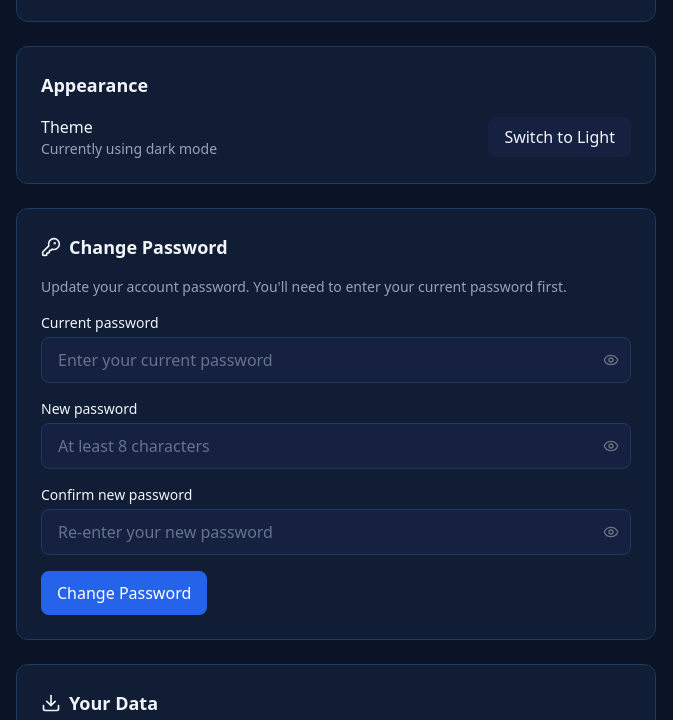
SettingsPage - change password submission › POSTs to /api/auth/change-password and shows the success banner on 200
(page scrolled)
Type "OldPass2025!" into the password field labelled "Current password" at (336, 360), box [41, 337, 631, 383]
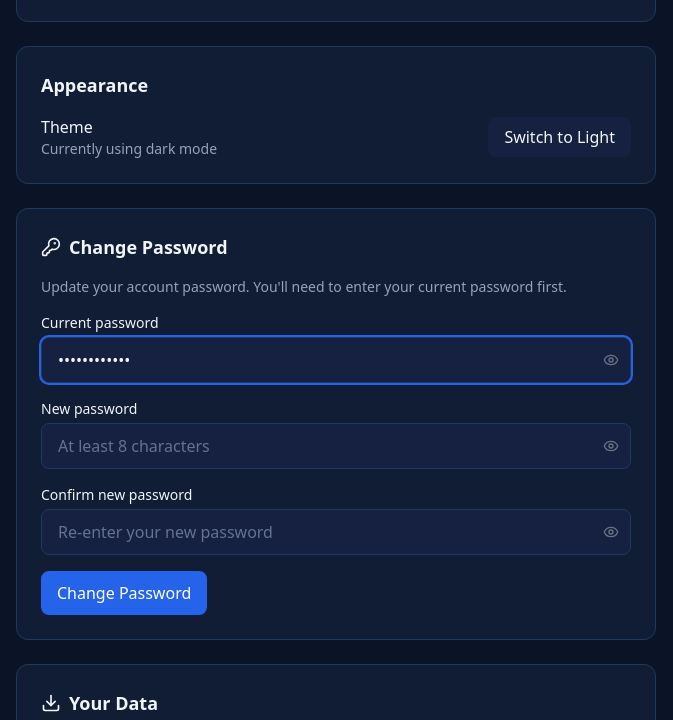
Type "TestPass2026!" into the password field labelled "New password" at (336, 446), box [41, 423, 631, 469]
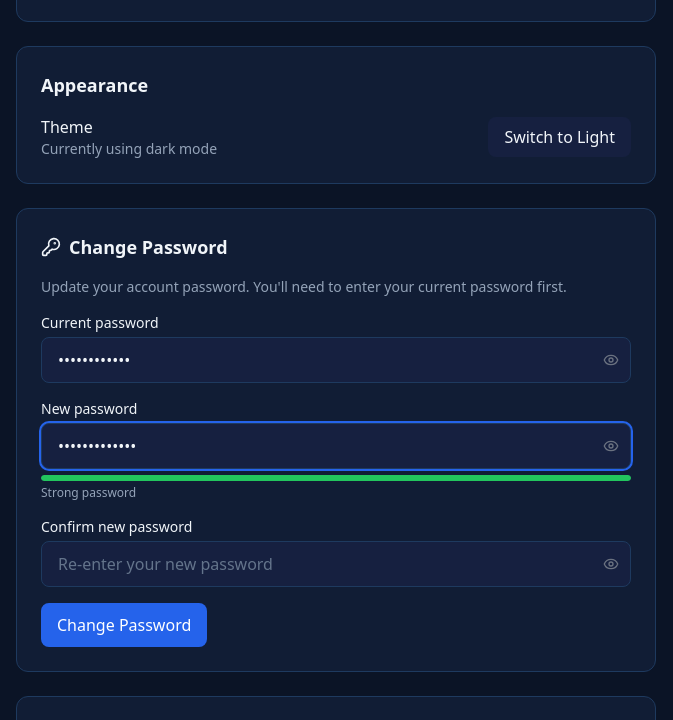
Type "TestPass2026!" into the password field labelled "Confirm new password" at (336, 564), box [41, 541, 631, 587]
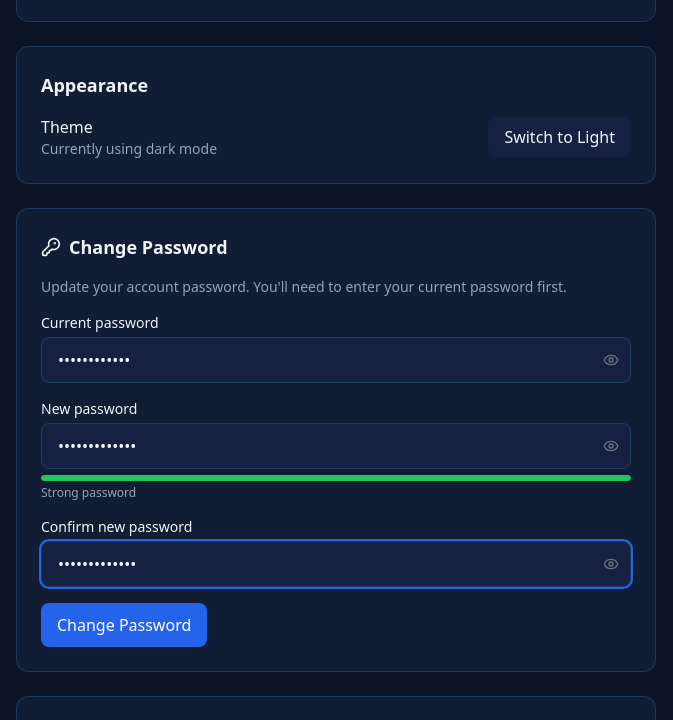
Click the button "Change Password" at (124, 625), box [41, 603, 207, 647]
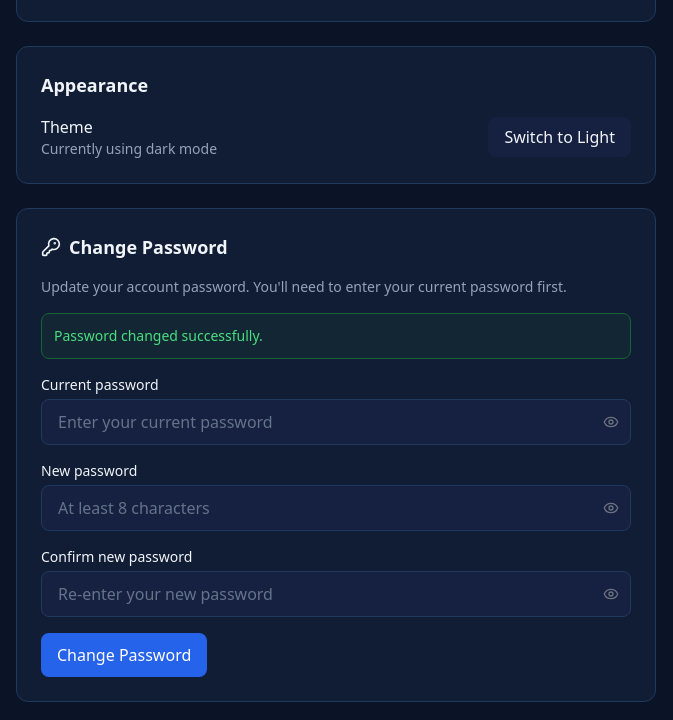
Check: the message reads "Password changed successfully.", box [54, 326, 263, 345]
